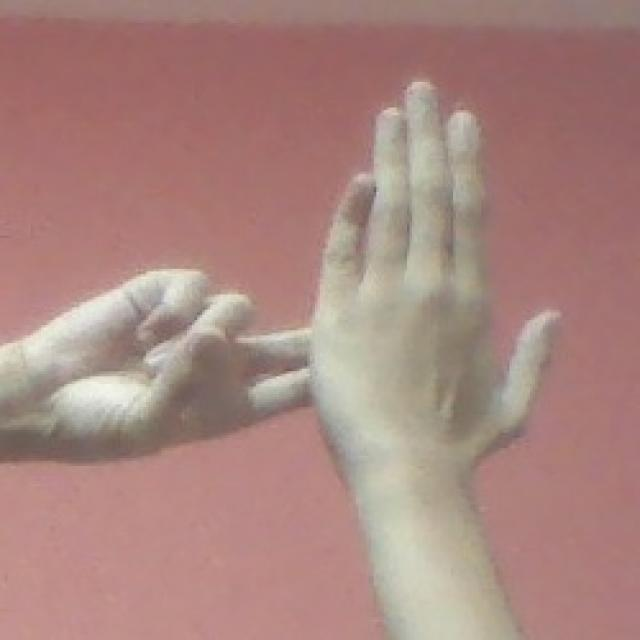Alphabet-N: (0, 71, 568, 512)
